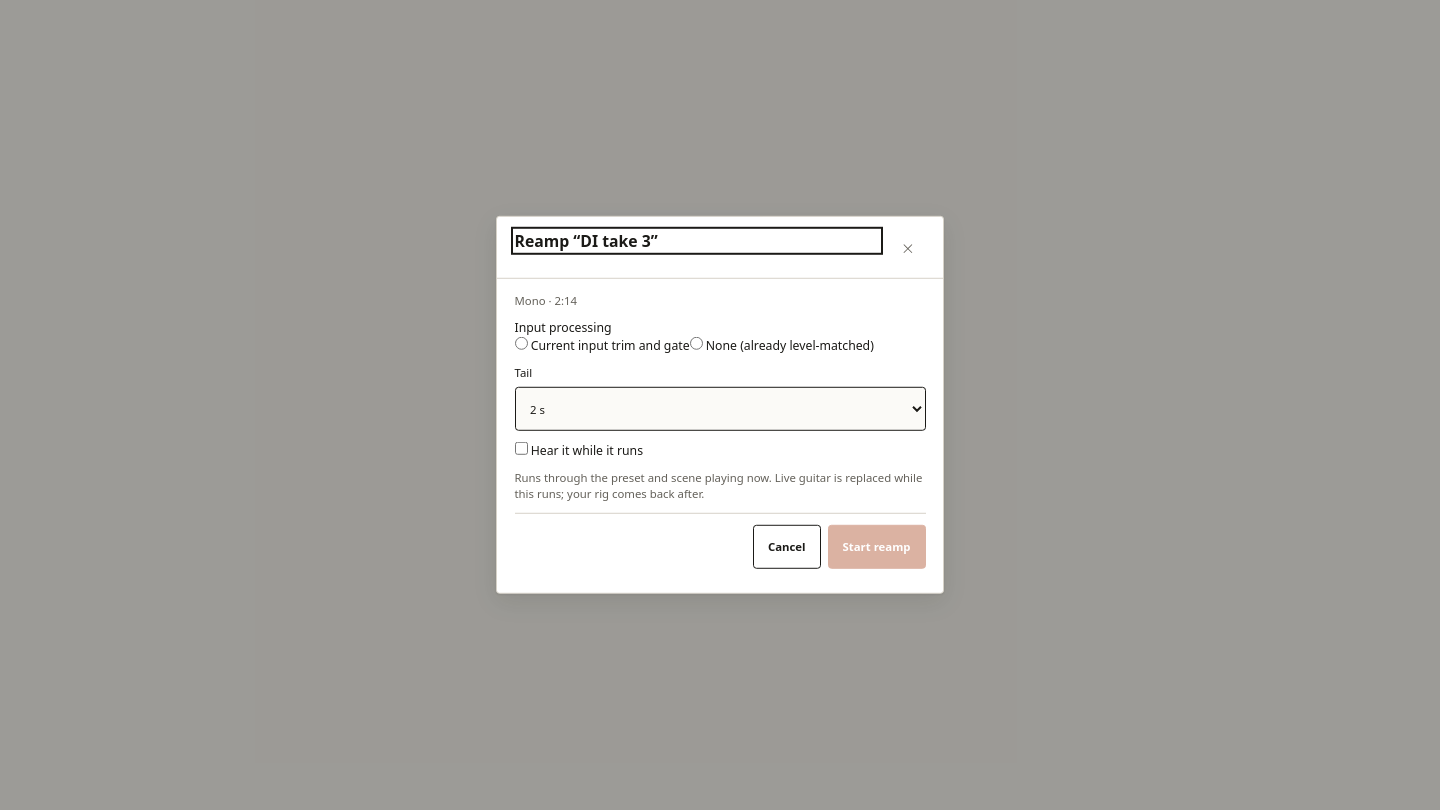
a mono DI only asks for input processing
expect the button "Start reamp" is disabled: met, box top-left (828, 525), bottom-right (926, 569)
Click the radio button labelled "Current input trim and gate": (521, 344) top-left (514, 337), bottom-right (528, 350)
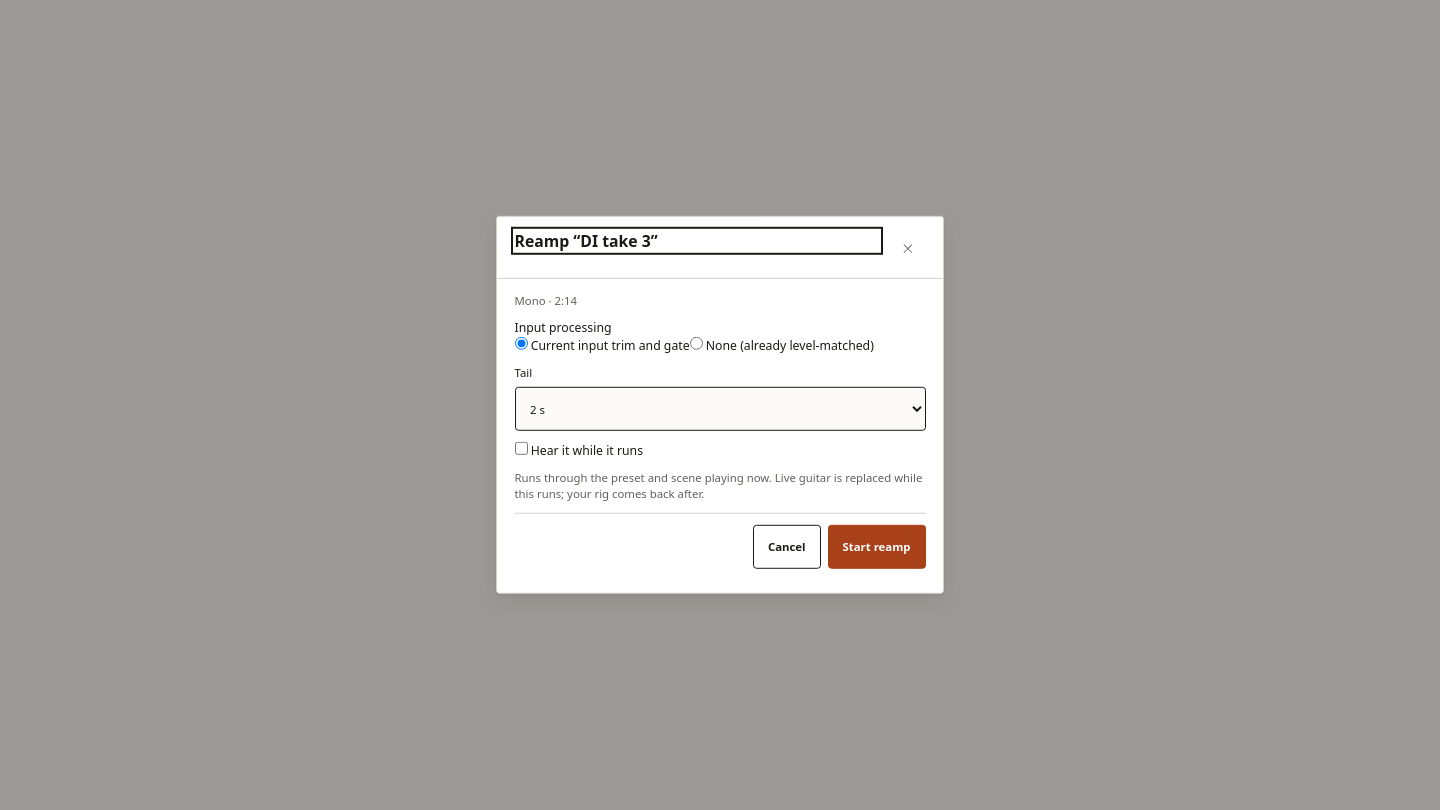
expect the text "Runs through the preset and scene playing now" is shown: met, box top-left (514, 470), bottom-right (922, 501)
expect the button "Start reamp" is enabled: met, box top-left (828, 525), bottom-right (926, 569)
